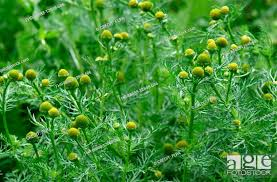pineple: (18, 66, 116, 151)
